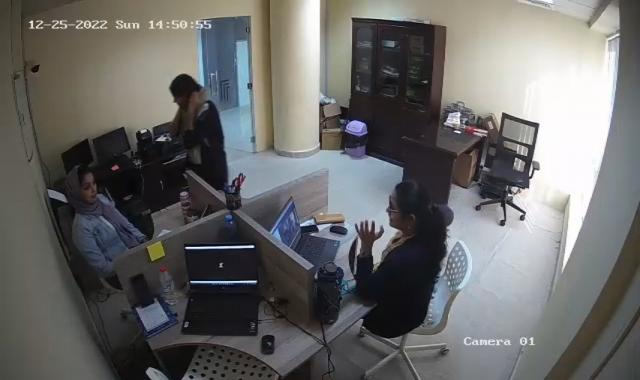no_hairnet: (390, 183, 430, 228), (66, 168, 98, 207), (169, 74, 199, 105)
